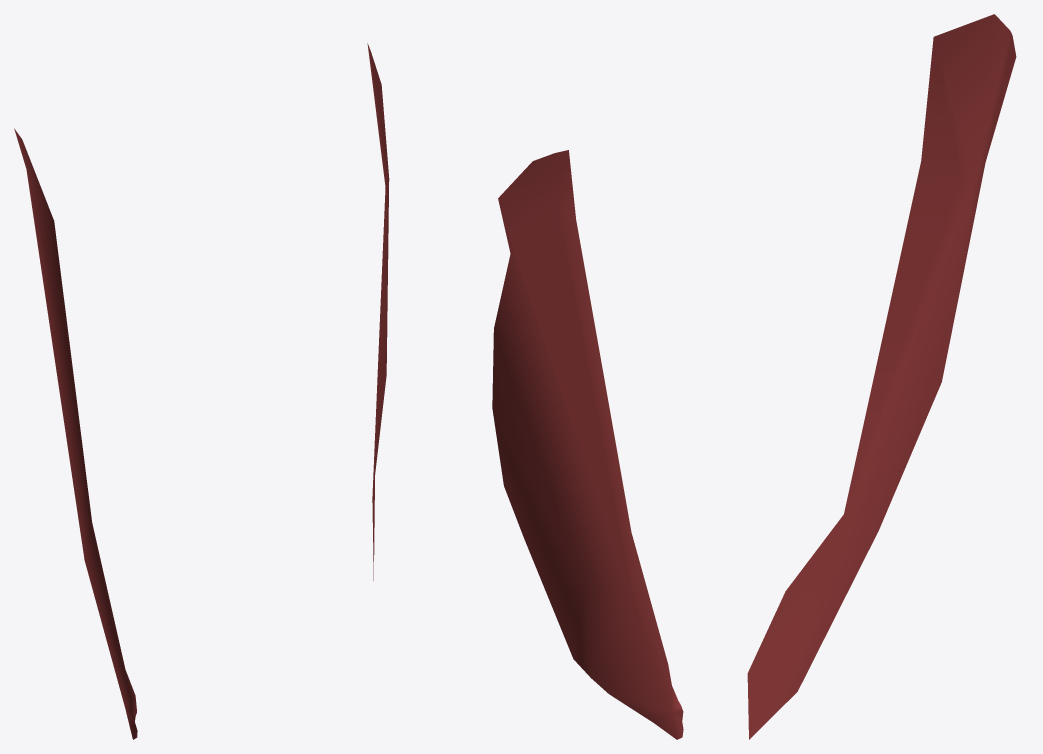
File: dorsal-interossei-muscles-of-hand-o2l.glb
3 views of the same model, side by side, from view 1: azimuth 30°, elevation 25°; view 2: azimuth 150°, elevation 25°; view 3: azimuth 270°, elevation 25° (orthographic). The views are drawn at different scales.
Visible parts, largest first — view 1: Dorsal interossei muscles of hand.o2l; view 2: Dorsal interossei muscles of hand.o2l; view 3: Dorsal interossei muscles of hand.o2l.
Part boxes in pixels (bbox=[...]): Dorsal interossei muscles of hand.o2l: bbox=[14, 128, 137, 739]; Dorsal interossei muscles of hand.o2l: bbox=[367, 43, 683, 739]; Dorsal interossei muscles of hand.o2l: bbox=[747, 14, 1016, 739].
Bounding box in the file's own units: 0.0128 × 0.0325 × 0.0125.
